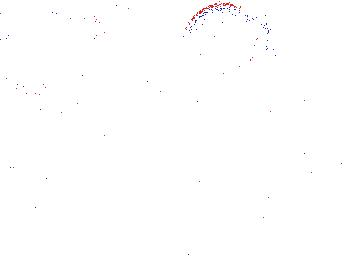moon jellyfish: (16, 19, 128, 89), (181, 3, 267, 85), (81, 32, 169, 75)
